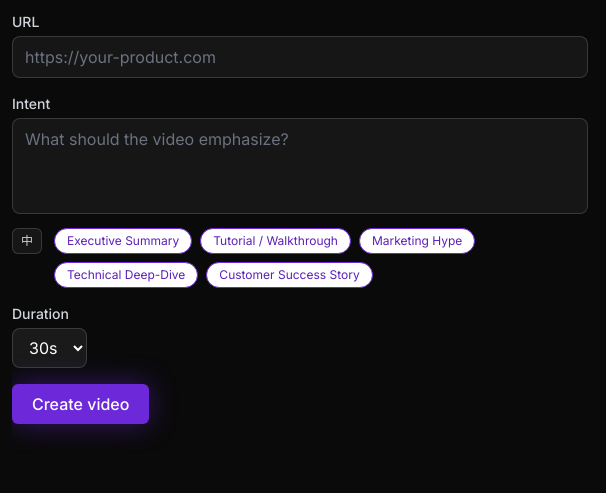
Test: JobForm › shows validation error on bad URL
Type "not-a-url" into the field labelled "URL" at (300,57), box [12,36,588,78]
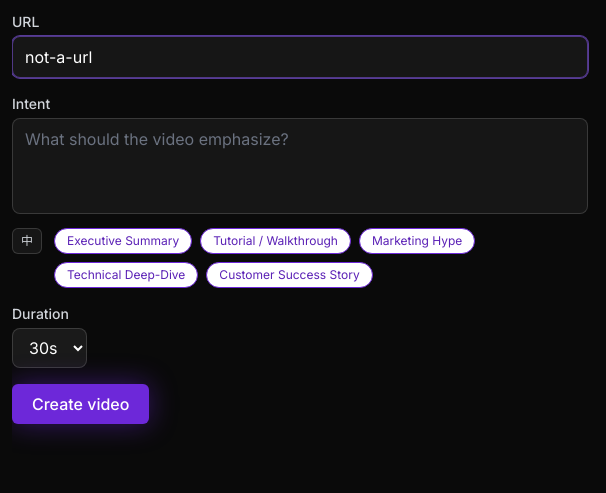
Type "x" into the text box labelled "Intent" at (300,166), box [12,118,588,214]
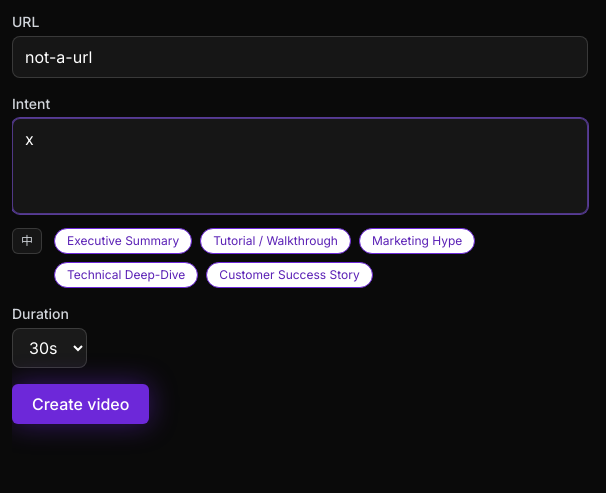
Click the button "Create video" at (81,404), box [12,384,149,424]
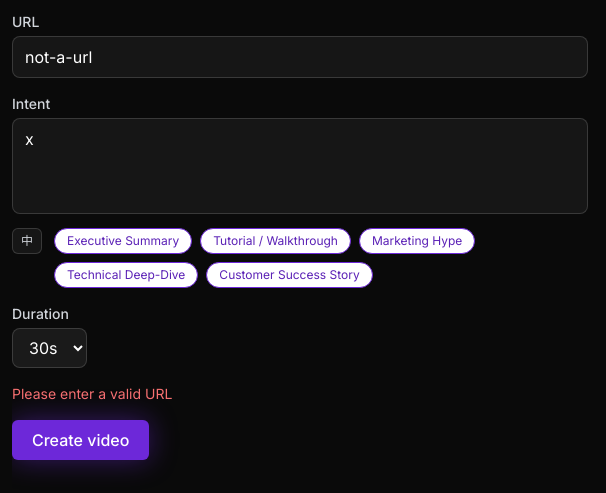
Result: the text "Please enter a valid URL" is shown at [12,385,172,402]
